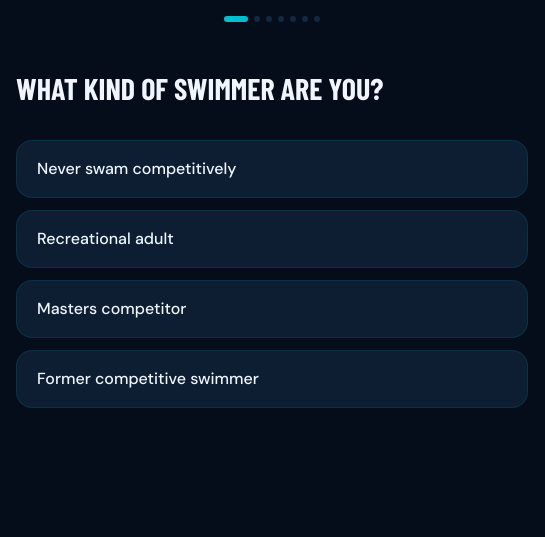
Test: OnboardingPage › requires at least one stroke before advancing from strokes step
// advance past experience and goal
Click the button "Recreational adult" at (105, 238), box [16,210,528,268]
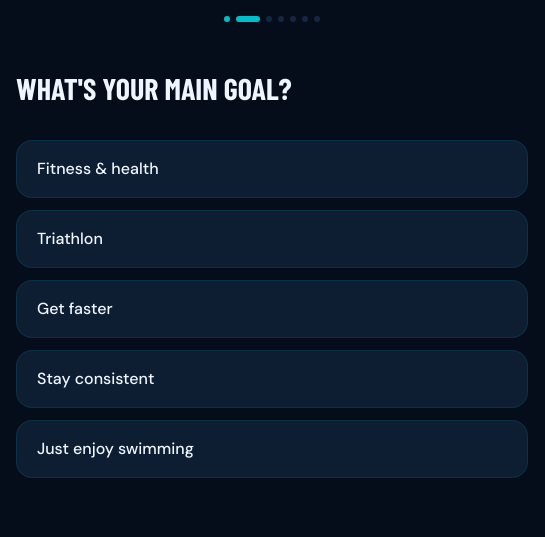
Click the button "Fitness & health" at (98, 168), box [16,140,528,198]
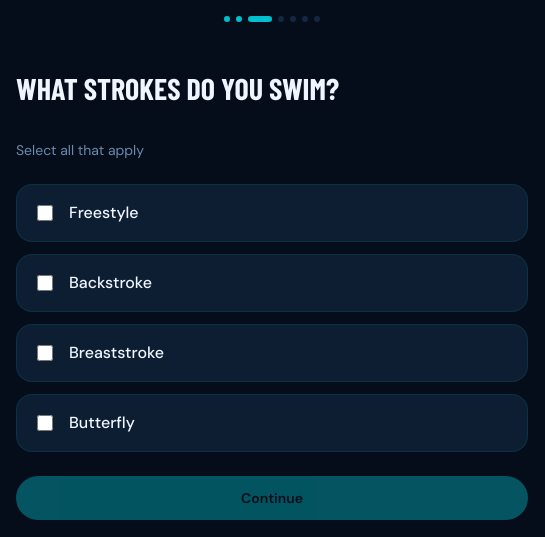
Check: the button "Continue" is disabled, box [16,476,528,520]
